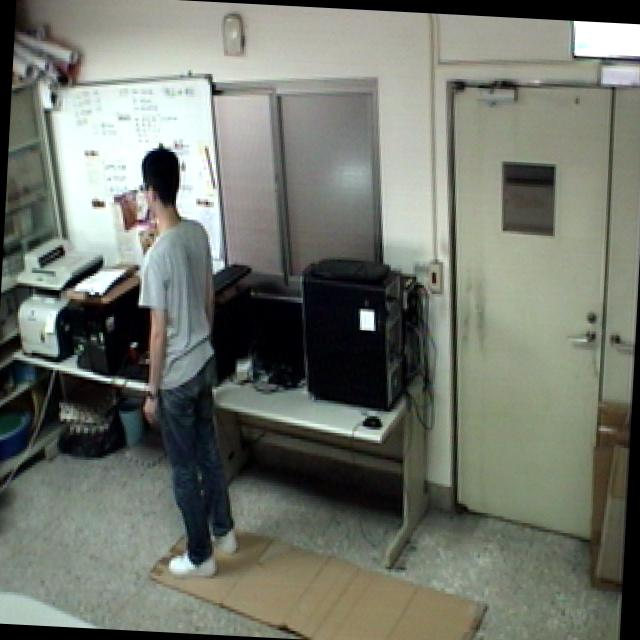stand: (117, 144, 266, 590)
